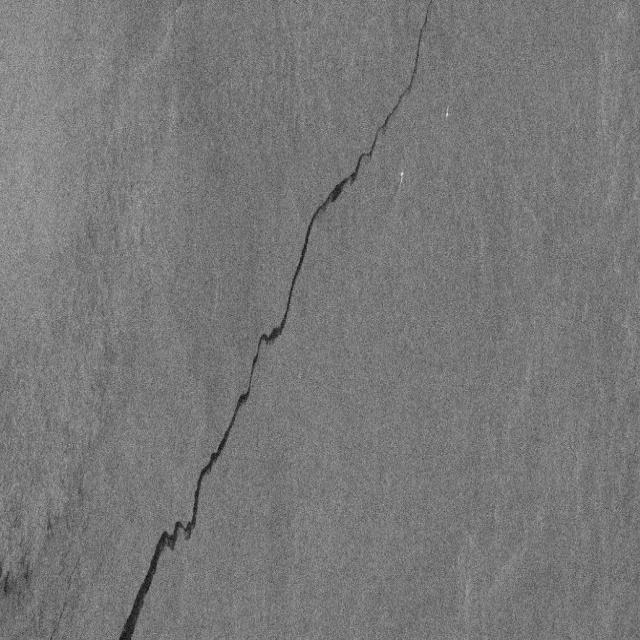oil-spill: (273, 4, 441, 334), (119, 326, 278, 640)
